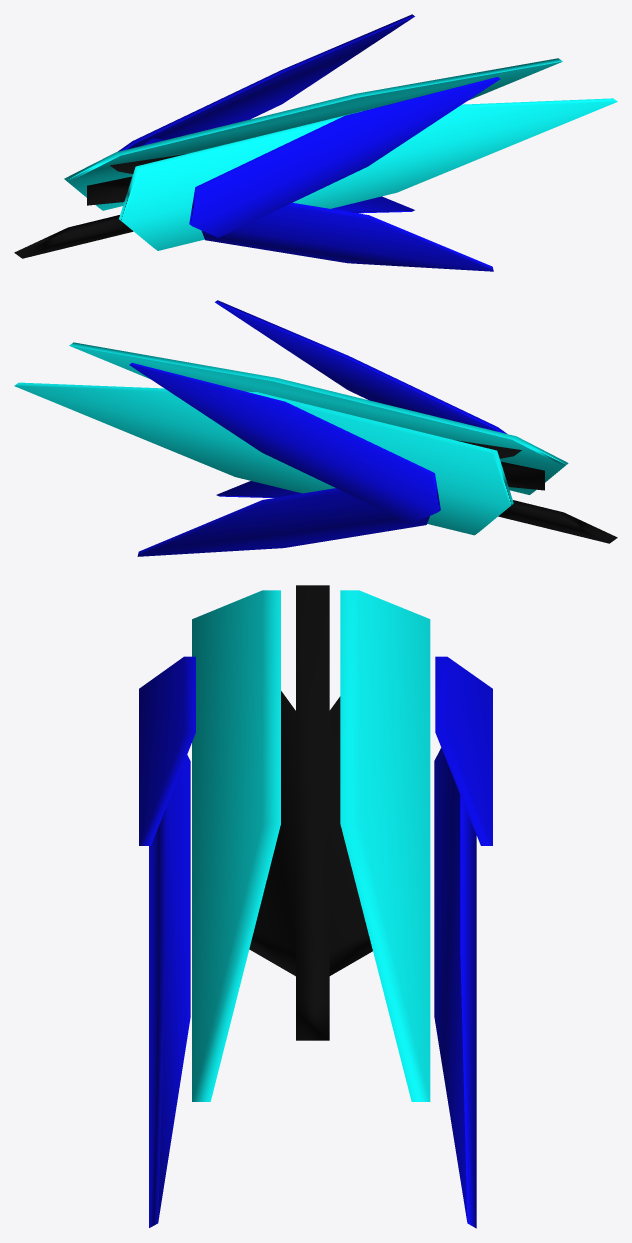
The model's file is Canon.obj.
3 renders of one model, top to bottom at view 1: azimuth 30°, elevation 25°; view 2: azimuth 150°, elevation 25°; view 3: azimuth 270°, elevation 25°, orthographic. The views are drawn at different scales.
Visible parts, largest first — view 1: Canon; view 2: Canon; view 3: Canon.
Boxes of the visible parts, <box> form: Canon: <box>14,14,617,271</box>; Canon: <box>14,300,617,556</box>; Canon: <box>139,585,492,1228</box>.
Bounding box in the file's own units: 3.72 × 1.21 × 1.
